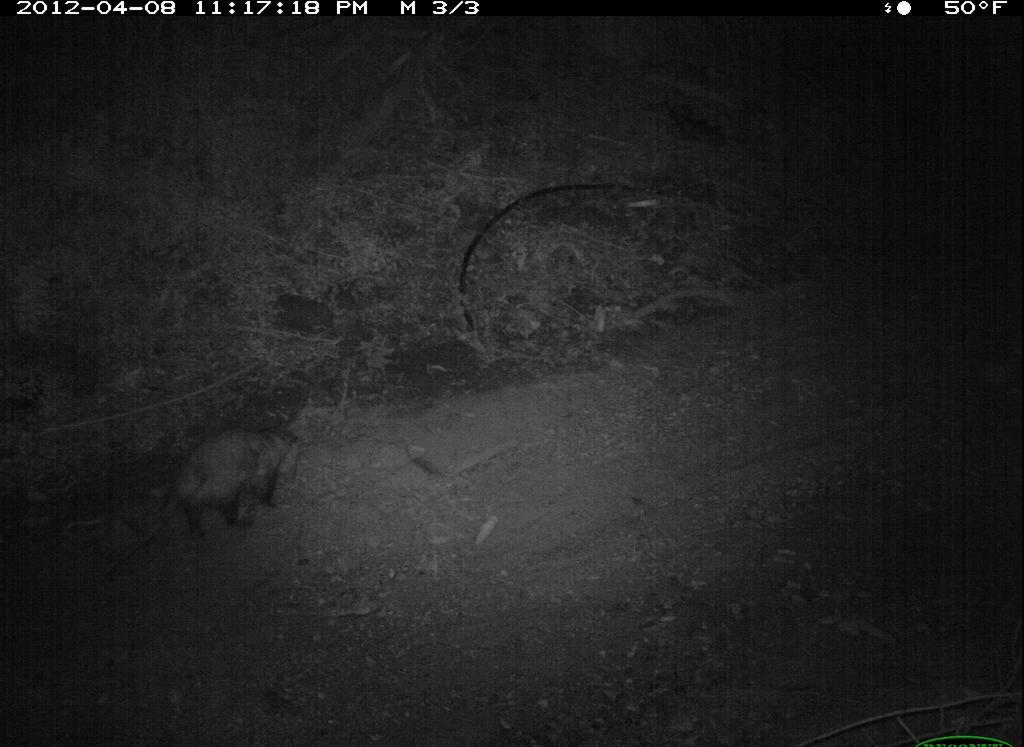opossum: (122, 419, 318, 559)
